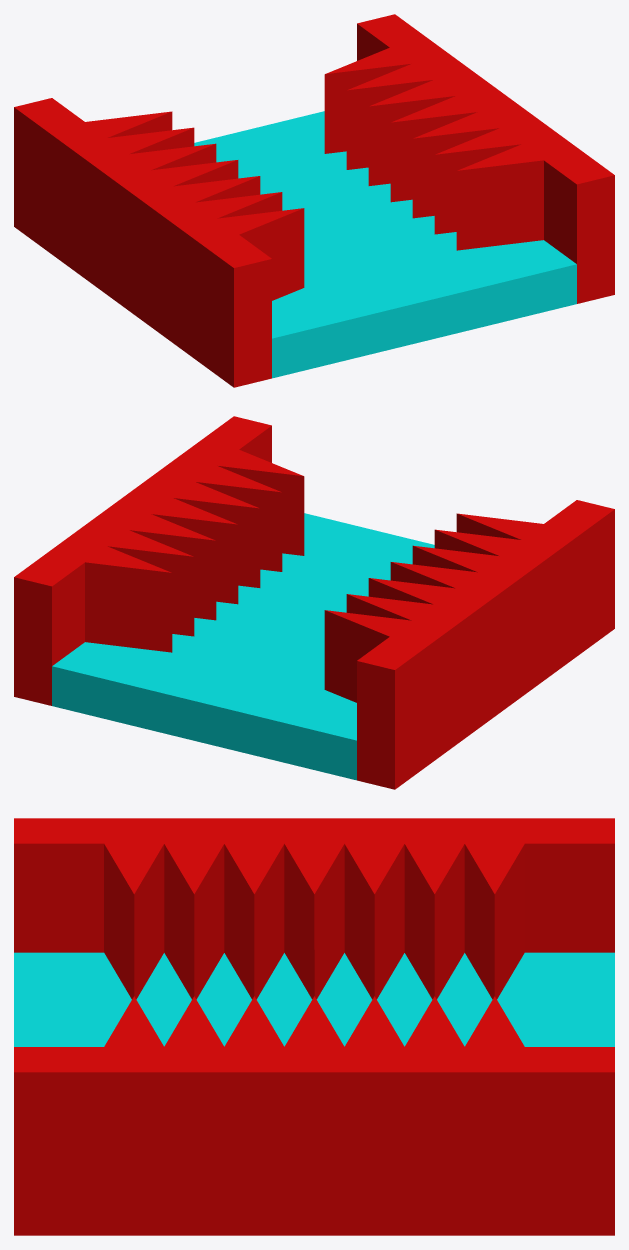
3 views of the same model, one above another, from view 1: azimuth 30°, elevation 25°; view 2: azimuth 150°, elevation 25°; view 3: azimuth 270°, elevation 25° (orthographic). The views are drawn at different scales.
Visible parts, largest first — view 1: 立方体.001, 立方体.003, 立方体.002; view 2: 立方体.001, 立方体.003, 立方体.002; view 3: 立方体.001, 立方体.002, 立方体.003.
Part boxes in pixels (<box>): 立方体.001: <box>14,14,614,387</box>; 立方体.003: <box>324,47,543,250</box>; 立方体.002: <box>85,111,304,300</box>; 立方体.001: <box>14,416,614,789</box>; 立方体.003: <box>85,449,304,652</box>; 立方体.002: <box>324,513,543,702</box>; 立方体.001: <box>14,818,614,1235</box>; 立方体.002: <box>104,843,524,999</box>; 立方体.003: <box>104,996,524,1046</box>.
Bounding box in the file's own units: 2000 × 600 × 2000.
